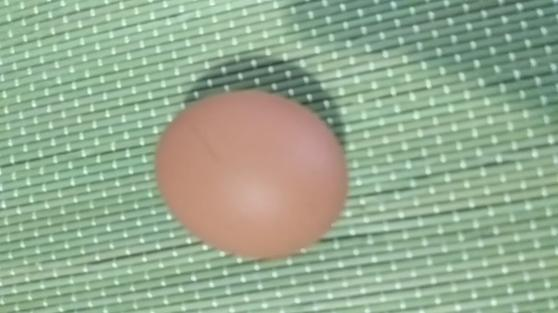egg: (152, 92, 350, 259)
